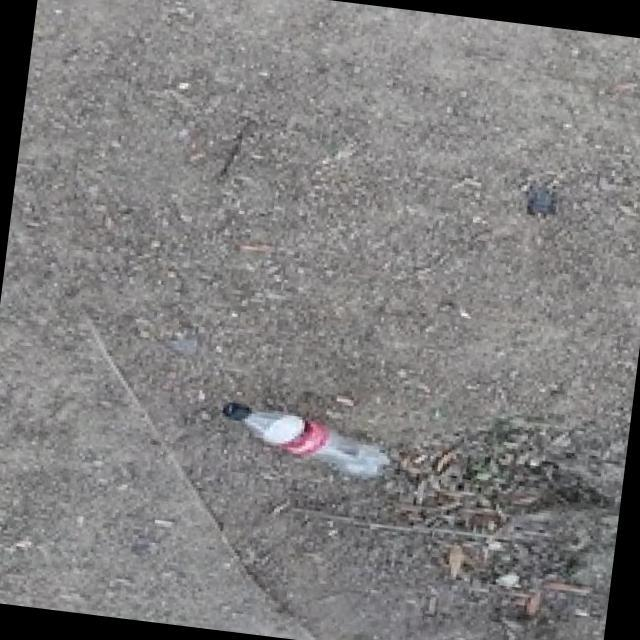good: (215, 389, 398, 482)
